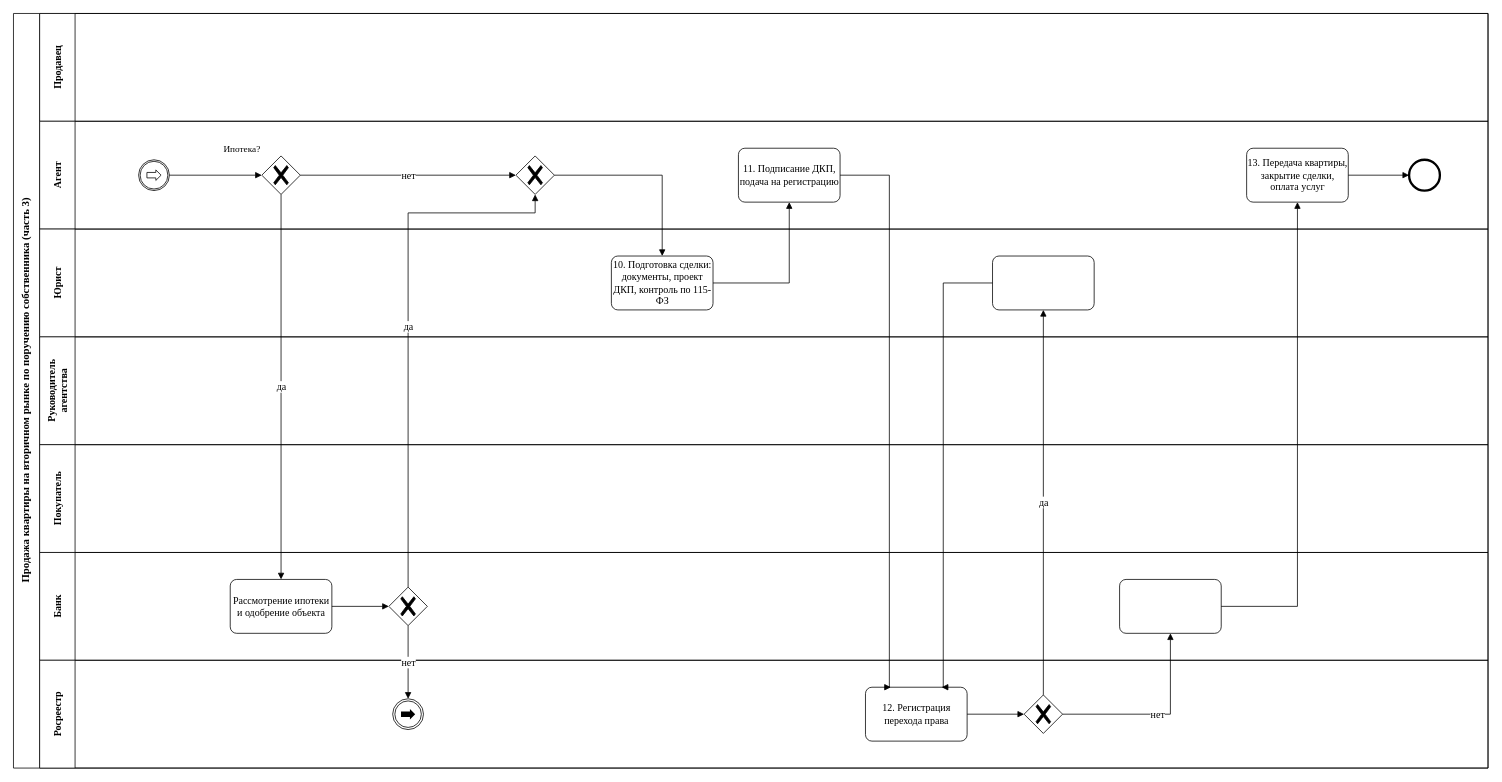
Some shapes in this 1502 by 782 pixel diagram are drawn without their labels. Here are the shapes that lost their labels. From the top down, the centre of each, then its label:
(x=153, y=175): От внесения аванса (В)
(x=1424, y=175): Сделка закрыта
(x=1043, y=282): Устранение замечаний регистратора
(x=407, y=606): Одобрено?
(x=1170, y=606): Расчёты с продавцом
(x=408, y=714): К поиску покупателя (Б)
(x=1043, y=713): Регистрация приостановлена?
